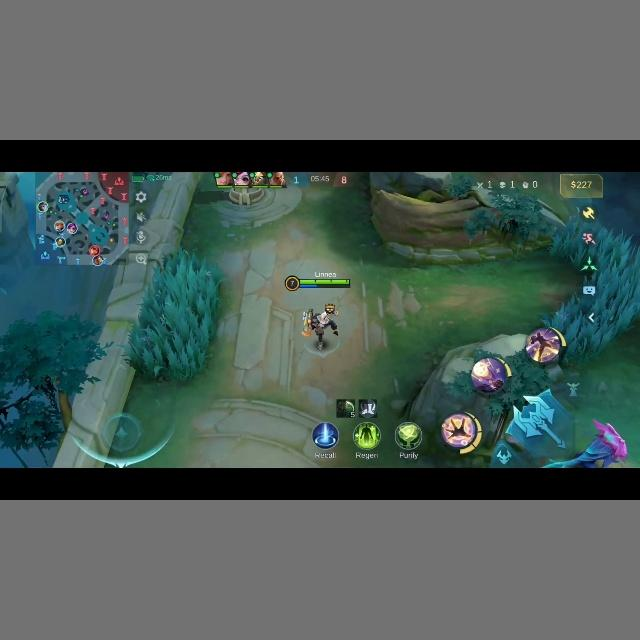hero_self: (303, 303, 342, 346)
hp_self: (297, 278, 349, 286)
